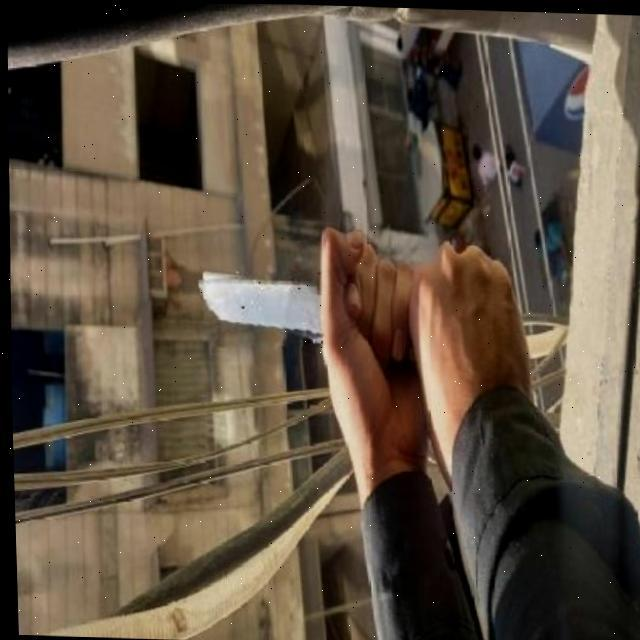knife: (198, 268, 320, 346)
